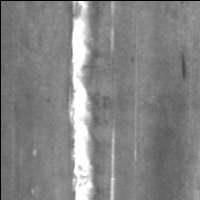inclusion: (178, 51, 190, 83)
scratches: (66, 1, 99, 200), (106, 125, 119, 200), (106, 1, 119, 61)
